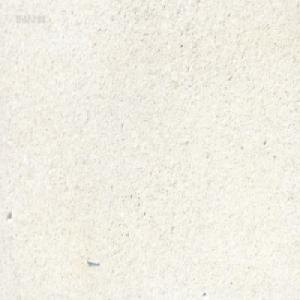Nail: (86, 256, 101, 265)
